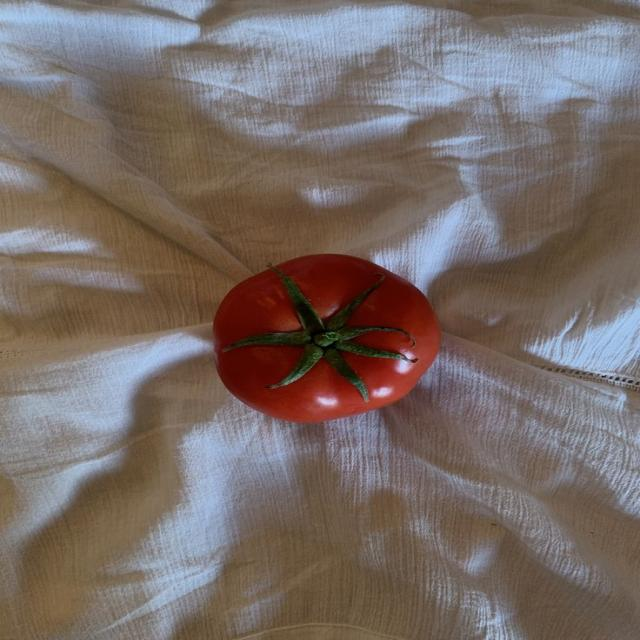tomato: (214, 254, 440, 422)
